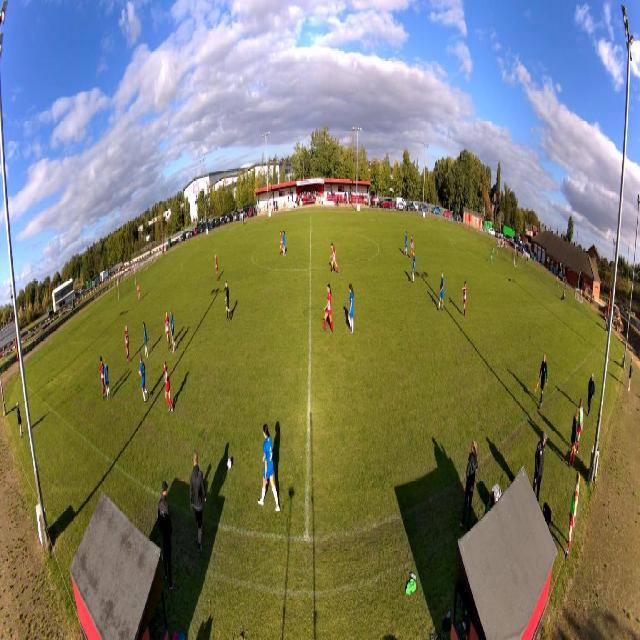ball: (227, 454, 233, 471)
player: (258, 424, 280, 515), (321, 283, 335, 334), (138, 353, 149, 404), (163, 358, 173, 414), (348, 283, 355, 335), (330, 242, 340, 276), (437, 269, 445, 311), (170, 309, 177, 353), (224, 280, 231, 322), (99, 356, 106, 398), (103, 359, 110, 400), (125, 323, 131, 365), (462, 280, 468, 320), (165, 310, 171, 350), (143, 321, 149, 357), (214, 253, 220, 281), (412, 251, 416, 287), (410, 234, 415, 262), (282, 230, 286, 258), (279, 230, 283, 257), (404, 230, 408, 257), (137, 281, 141, 302), (491, 244, 494, 265)
